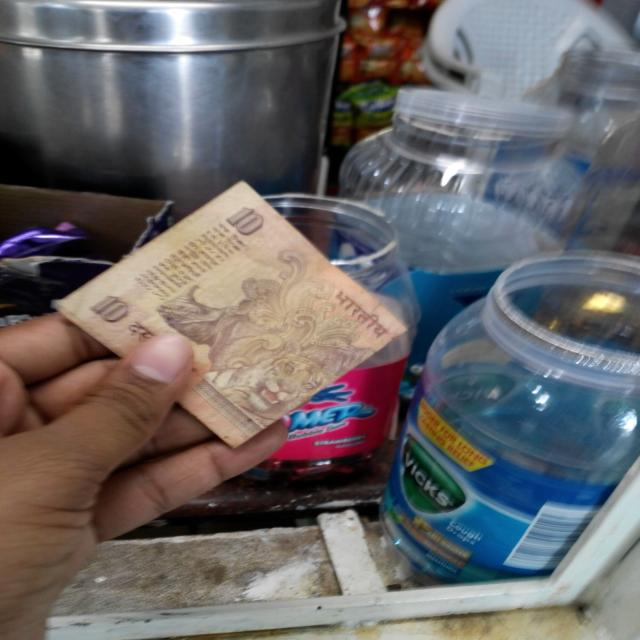10rs: (53, 180, 410, 451)
